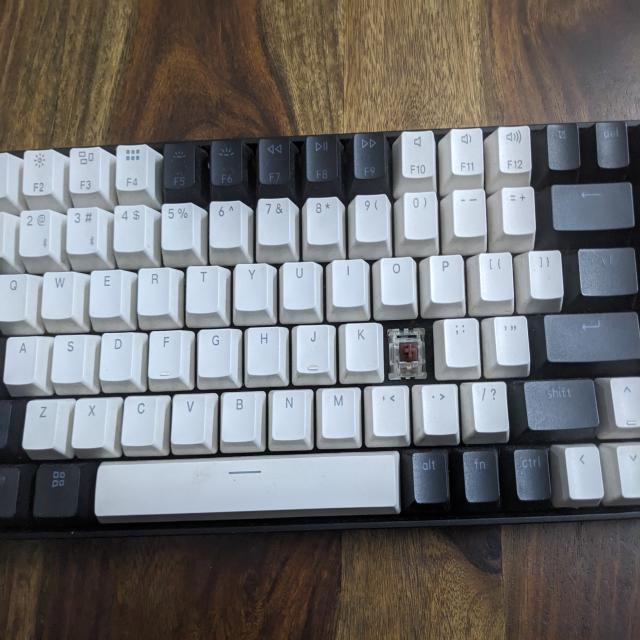key-switch: (389, 327, 427, 374)
